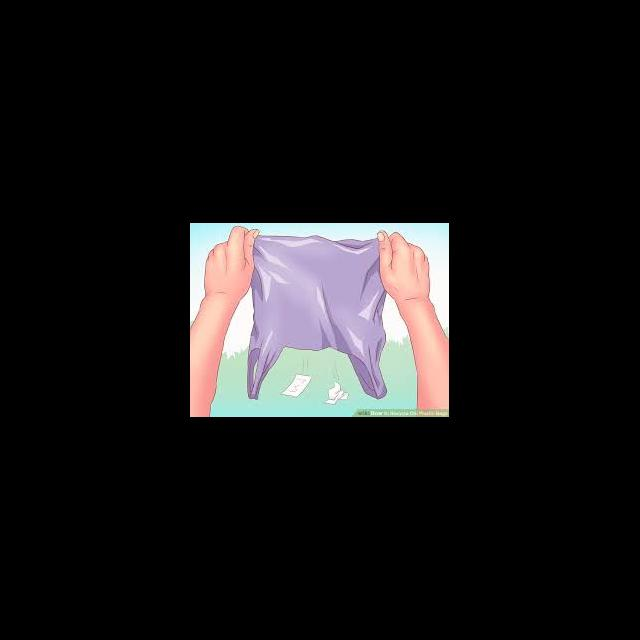paper: (280, 373, 310, 396), (326, 382, 348, 402)
plastic: (247, 234, 391, 399)
